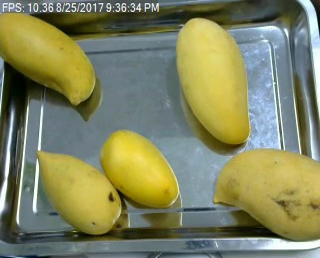Mango: (174, 13, 257, 141), (215, 144, 320, 243), (0, 4, 102, 105), (23, 147, 123, 240), (95, 127, 185, 209)
